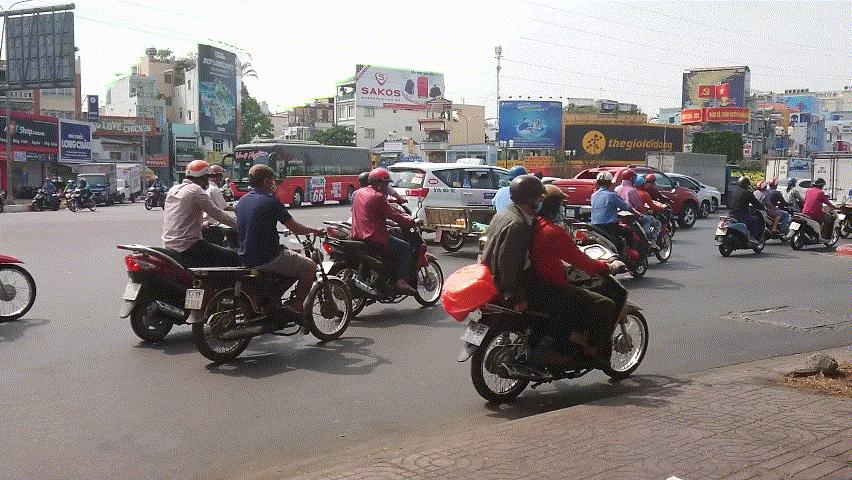bicyclist: (182, 162, 355, 363)
driver: (442, 174, 651, 404), (326, 166, 444, 319), (712, 174, 772, 259), (786, 177, 844, 252)
helmet: (508, 173, 549, 216), (184, 159, 217, 192), (367, 169, 394, 194), (597, 170, 614, 191), (620, 169, 638, 187), (736, 175, 752, 192), (811, 176, 826, 191)
no-helmet: (247, 162, 281, 196)
